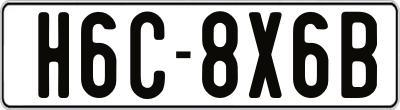6: (80, 11, 121, 103), (292, 9, 332, 99)
8: (201, 9, 237, 96)
B: (340, 11, 377, 100)
C: (130, 10, 165, 103)
H: (36, 12, 73, 98)
X: (248, 11, 286, 103)
